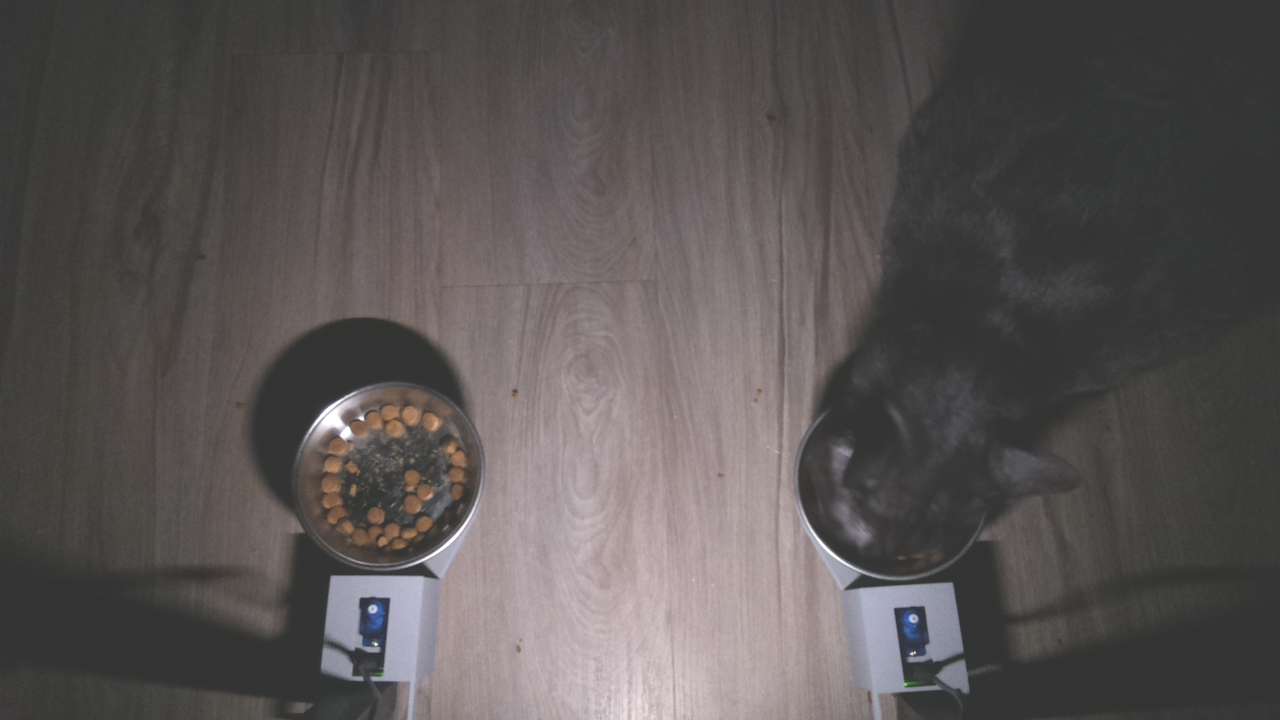open_bowl: (289, 378, 487, 583)
saki_eating: (769, 321, 1084, 586)
